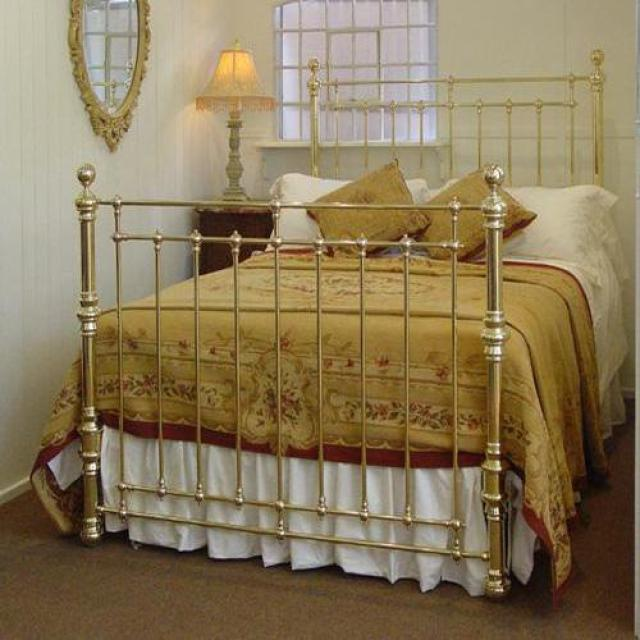bed: (77, 44, 632, 596)
